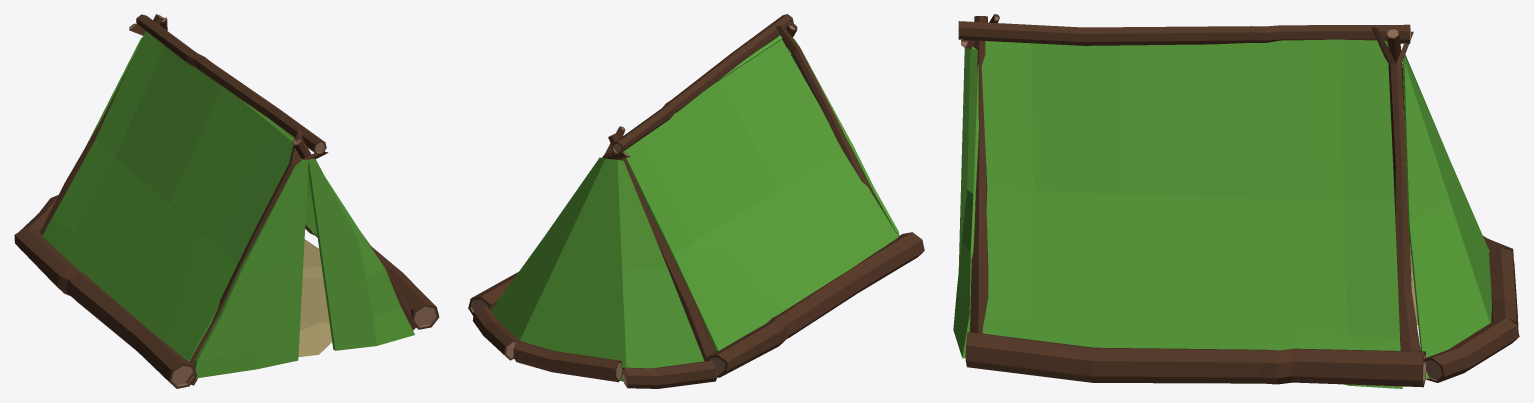
The model's file is Tenda.fbx.
The picture shows the model from 3 angles, left to right: view 1: azimuth 30°, elevation 25°; view 2: azimuth 150°, elevation 25°; view 3: azimuth 270°, elevation 25°; orthographic projection. The views are drawn at different scales.
Parts seen in each view (by area): view 1: LPTentV1.1; view 2: LPTentV1.1; view 3: LPTentV1.1.
Boxes of the visible parts, box(x1,y1,x2,y2) form: LPTentV1.1: box(14, 14, 439, 388); LPTentV1.1: box(468, 14, 924, 388); LPTentV1.1: box(953, 14, 1519, 388).
Size of the model in its own units: 631 by 460 by 819.
